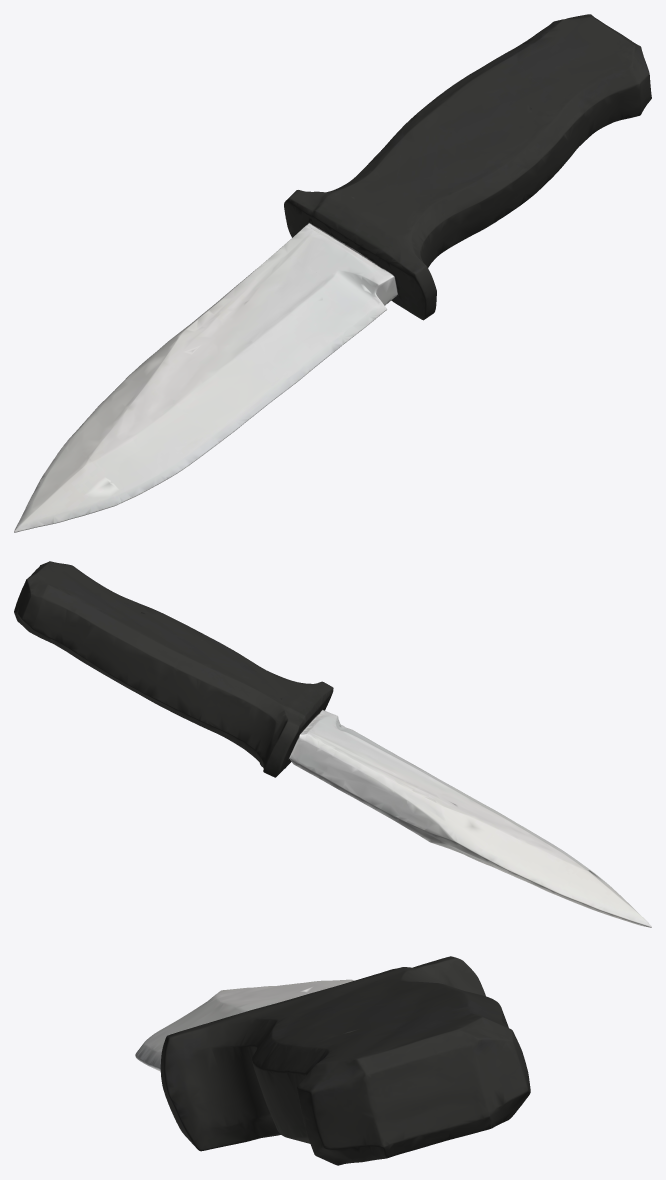
Rendered from knife.glb.
The picture shows the model from 3 angles, top to bottom: view 1: azimuth 30°, elevation 25°; view 2: azimuth 150°, elevation 25°; view 3: azimuth 270°, elevation 25°; orthographic projection. The views are drawn at different scales.
Visible parts, largest first — view 1: geometry_0; view 2: geometry_0; view 3: geometry_0.
Boxes of the visible parts, x1=… form: geometry_0: x1=14, y1=14, x2=651, y2=532; geometry_0: x1=14, y1=561, x2=651, y2=927; geometry_0: x1=135, y1=956, x2=530, y2=1165.
Bounding box in the file's own units: 0.32 × 0.1379 × 0.0941.
1 material, 1 textured.
